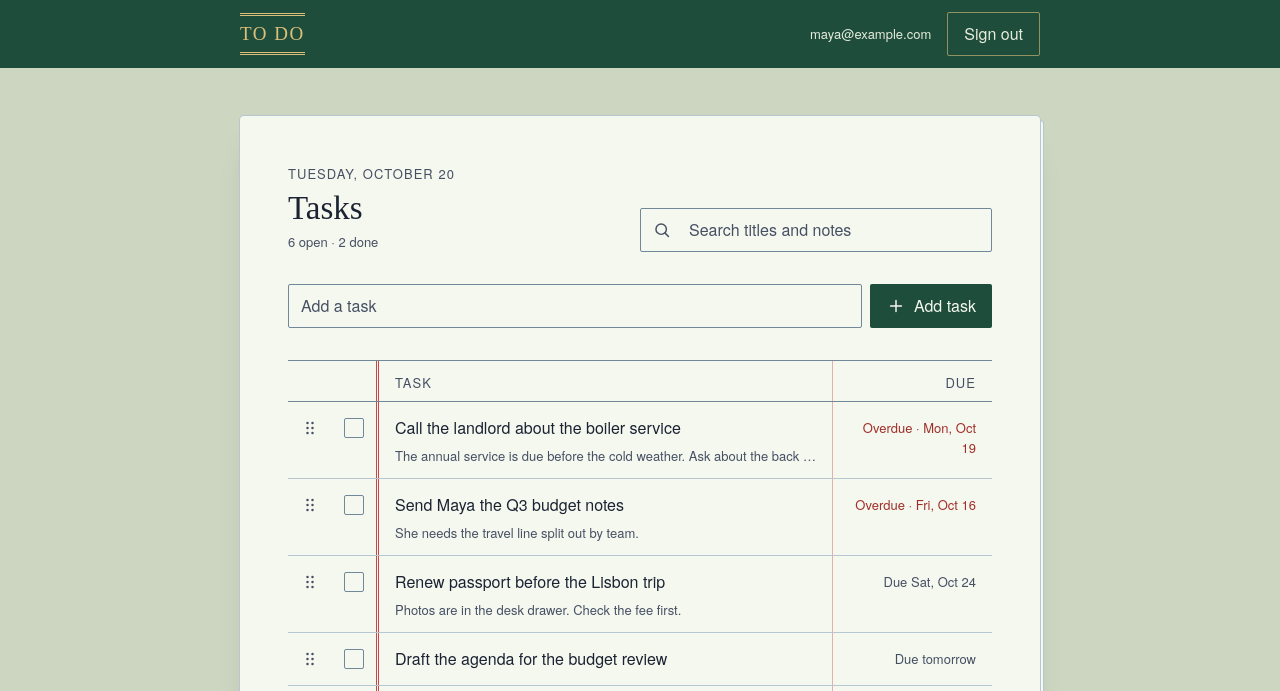
Test: app router › signs out and returns to sign-in
Step 1. Click the button "Sign out" → (994, 34), box left=947, top=12, right=1040, bottom=56
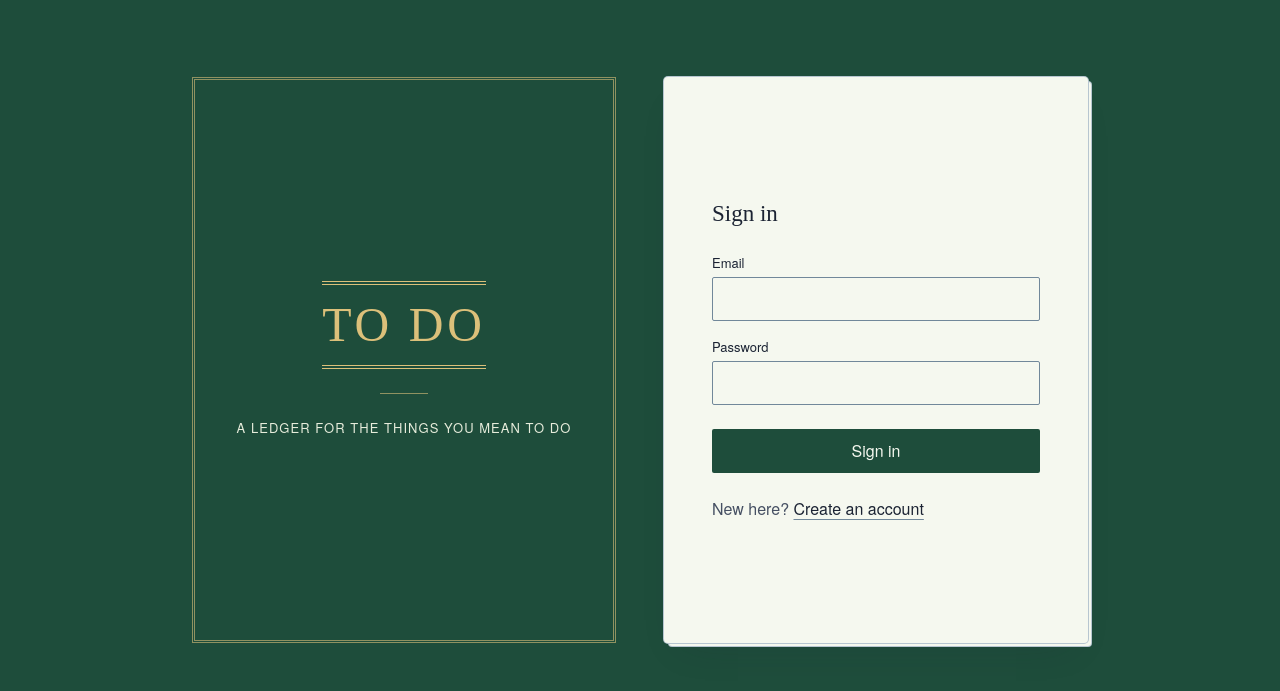
Expected: the heading "Sign in" is shown, left=712, top=201, right=778, bottom=226
